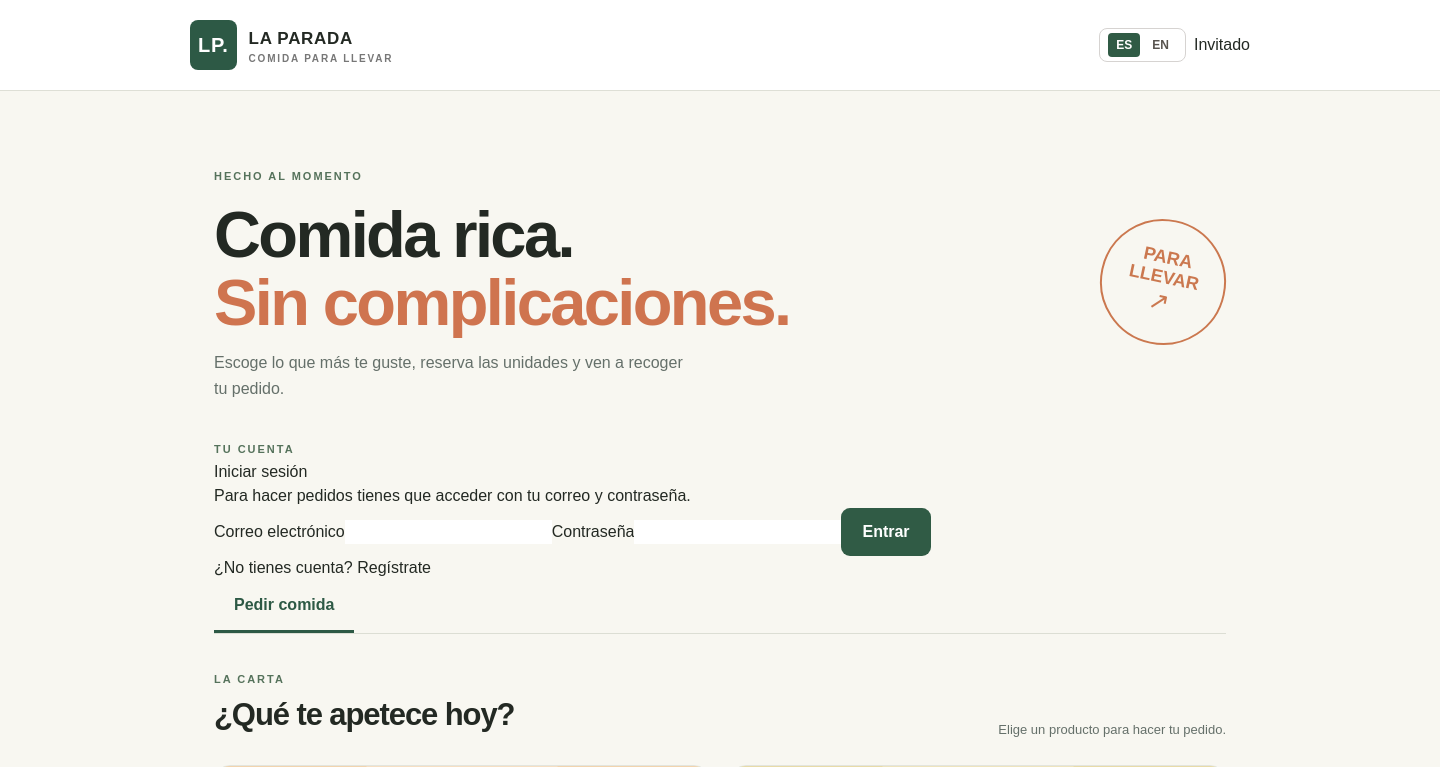
Test case: AC 9.1 — traducciones y componente UI › cambia la carta al inglés y conserva el idioma
The image size is (1440, 767).
Click the button "EN": (1161, 45) [1144,33,1177,57]
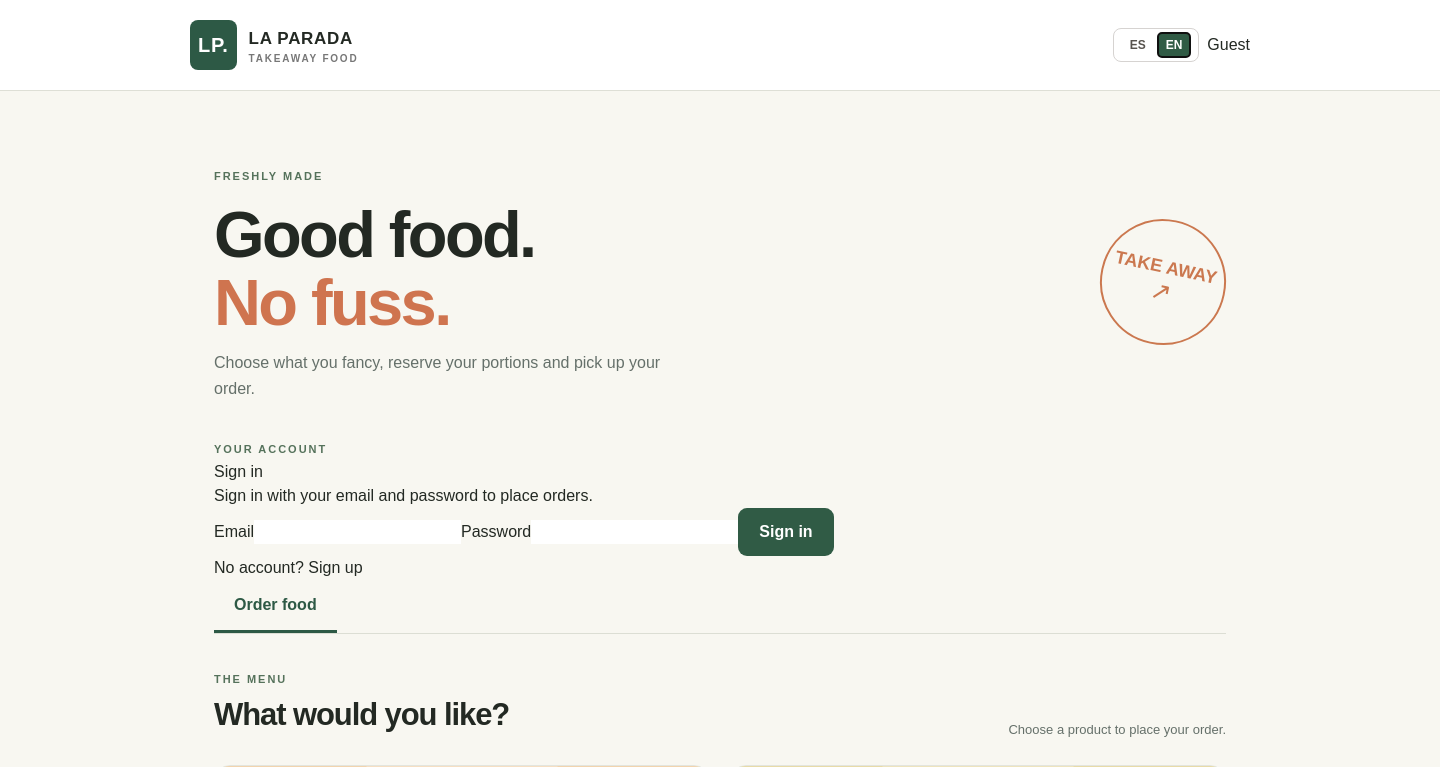
Now the heading "What would you like?" is shown, box [214,697,509,733]
